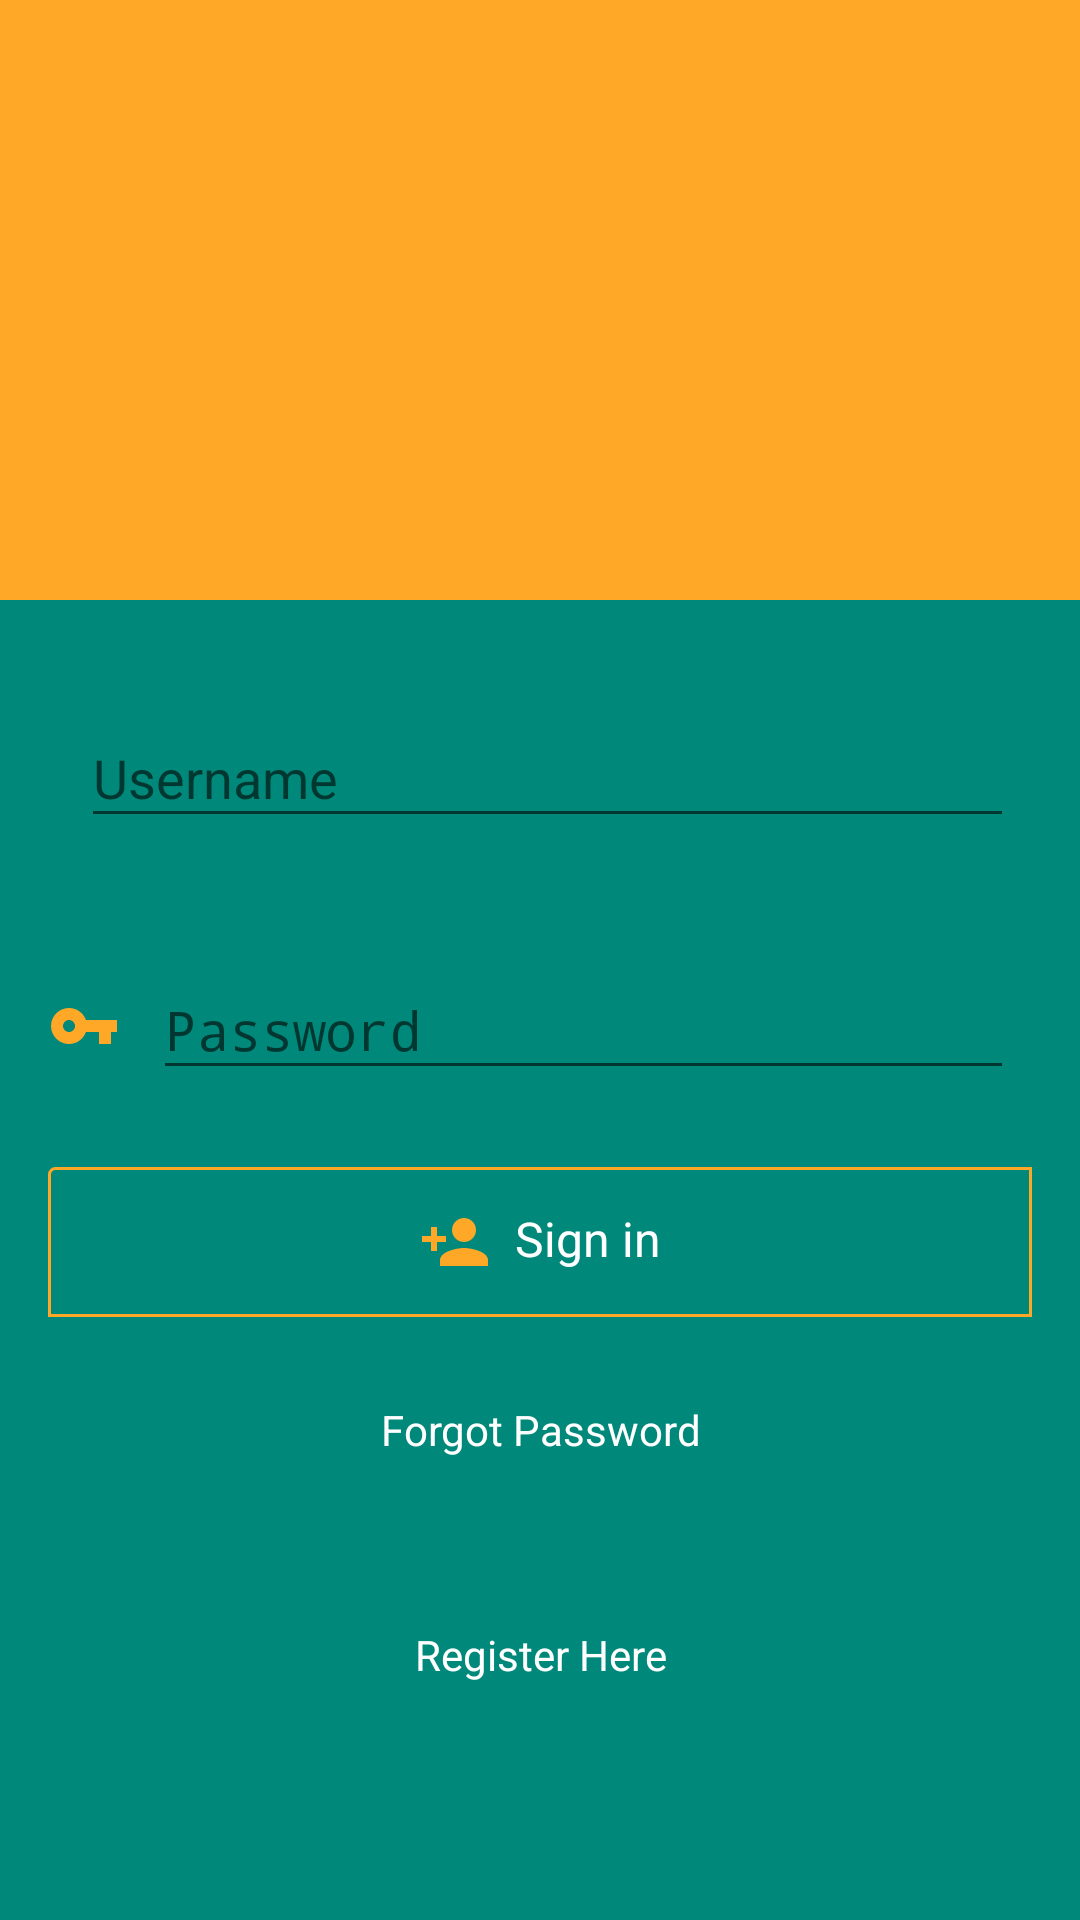

Named icons in this screenshot (1080 x 1920) and their centers, (x=x, y=y):
person add: (x=455, y=1242)
vpn key: (x=84, y=1026)
